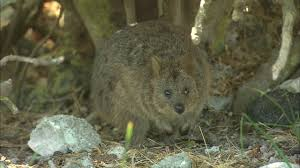quokka: (82, 8, 218, 152)
